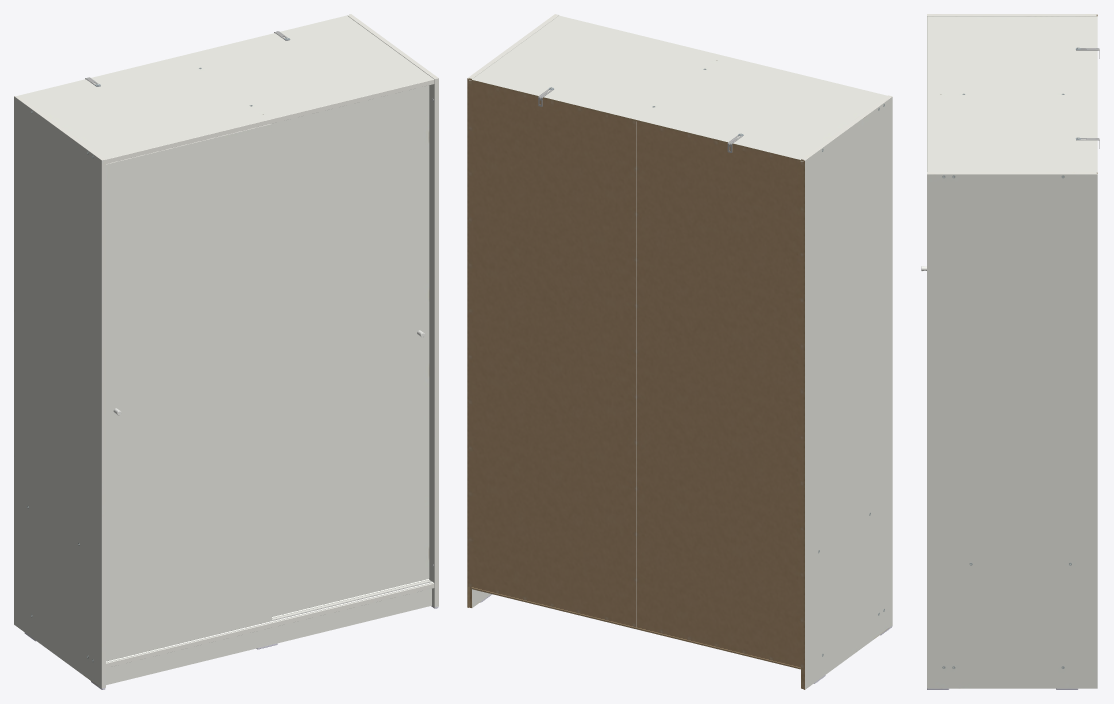
The picture shows the model from 3 angles, left to right: view 1: azimuth 30°, elevation 25°; view 2: azimuth 150°, elevation 25°; view 3: azimuth 270°, elevation 25°; orthographic projection. The views are drawn at different scales.
Parts seen in each view (by area): view 1: world; view 2: world; view 3: world.
Boxes of the visible parts, x1,y1,x2,y2 form: world: (14,14,438,689); world: (467,14,892,689); world: (921,14,1099,689).
Bounding box in the file's own units: 1.17 × 1.76 × 0.55.
Materials: 1 (1 with a texture image).
